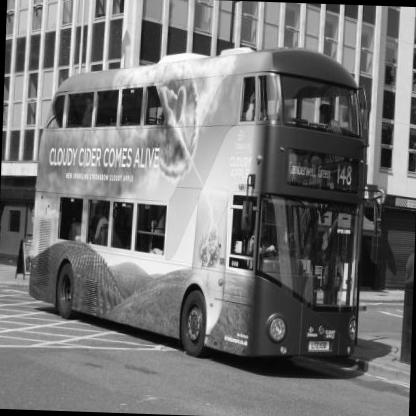bus: (2, 44, 380, 391)
